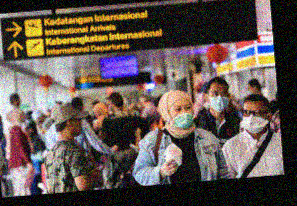with_mask: (167, 101, 196, 129), (241, 105, 268, 132), (207, 88, 230, 112)
without_mask: (73, 117, 85, 135)
